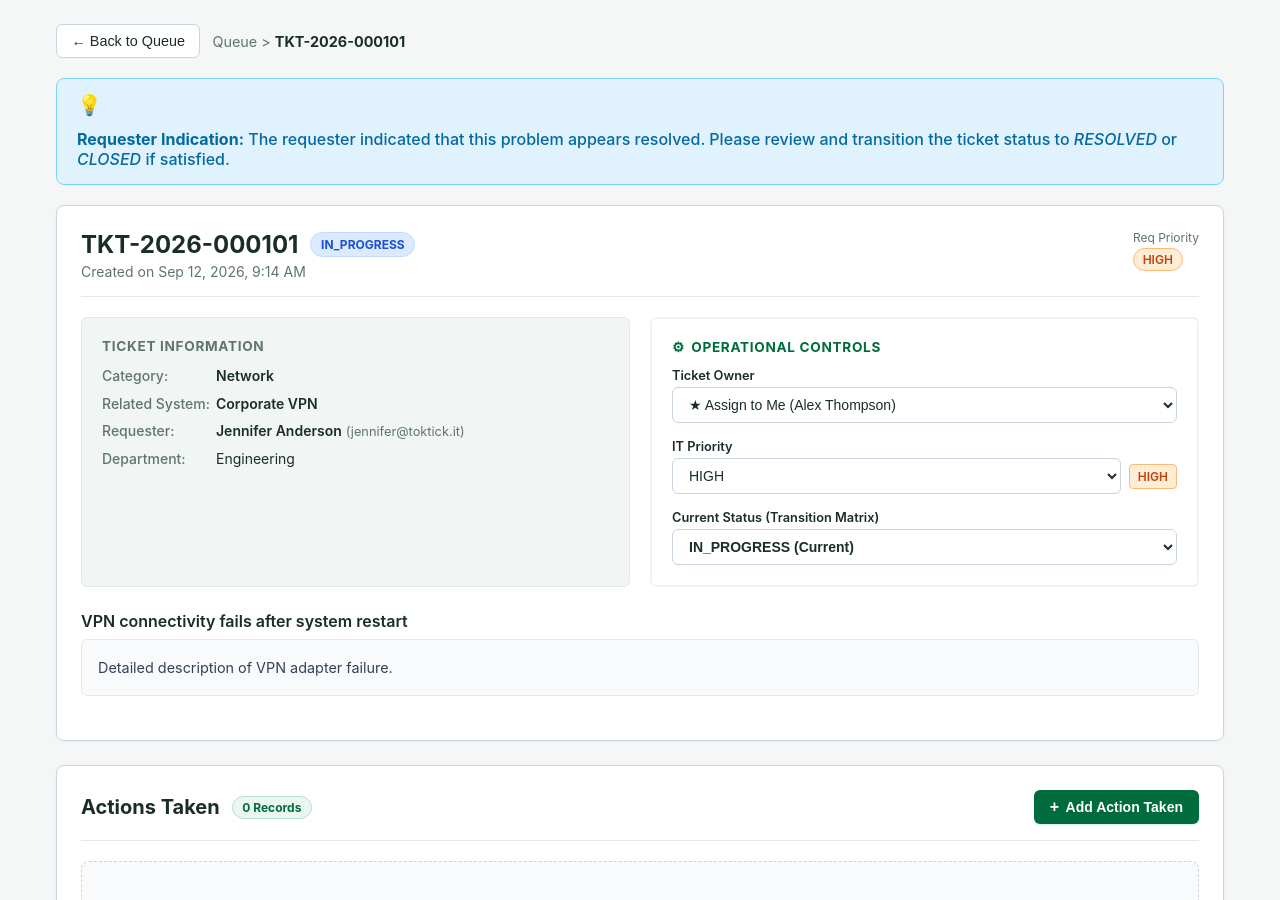
Test: Lab 4 Ticket Workflow & Resolution Gate Component Tests (FLOW-01 to FLOW-04, AC-06 to AC-09, AC-14) › Resolution Gate Enforcement & Concurrency Conflict in UI (FLOW-04, API-04, AC-14) › displays error alert when backend returns 409 Conflict for Stale Update
Select "→ Transition to WAITING_FOR_REQUESTER" in the dropdown with test id "ticket-status-select" at (924, 547), box 672,529 -> 1177,565
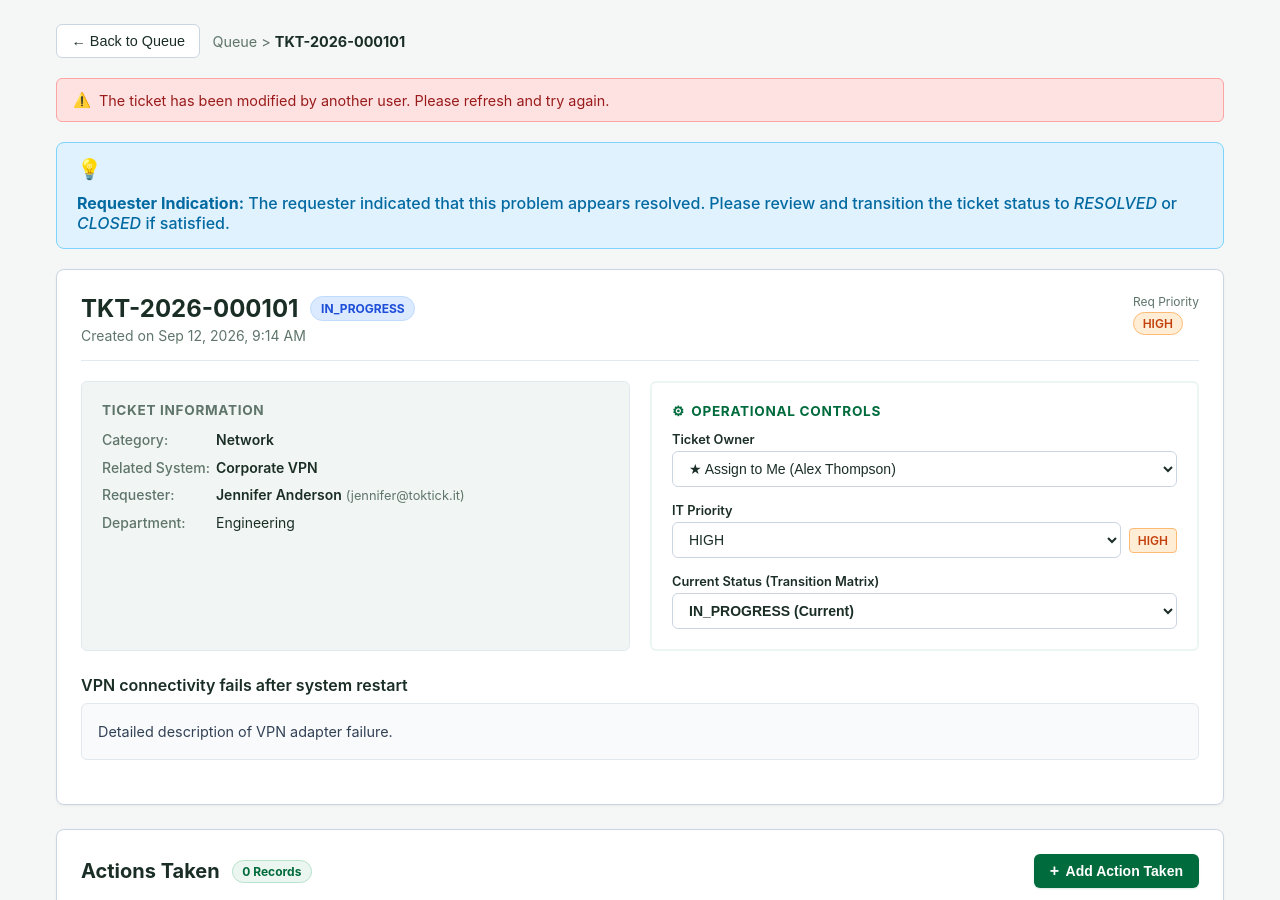
Now the message "⚠️ The ticket has been modified by another user. Please refresh and try again." is shown, box 56,78 -> 1224,122
Now the message with test id "staff-detail-error-alert" shows "modified by another user", box 99,92 -> 610,108
